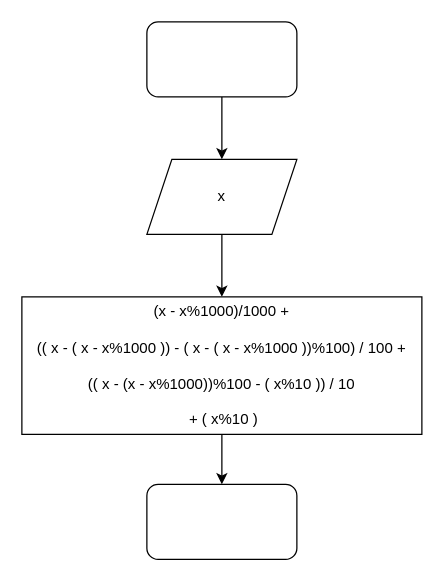
Some shapes in this 444 by 581 pixel diagram are drawn without their labels. The shapes that lost their labels are listed below. From the top down, each one's centre as x and y in pixels, then its label:
point 221,59: start
point 221,521: end
